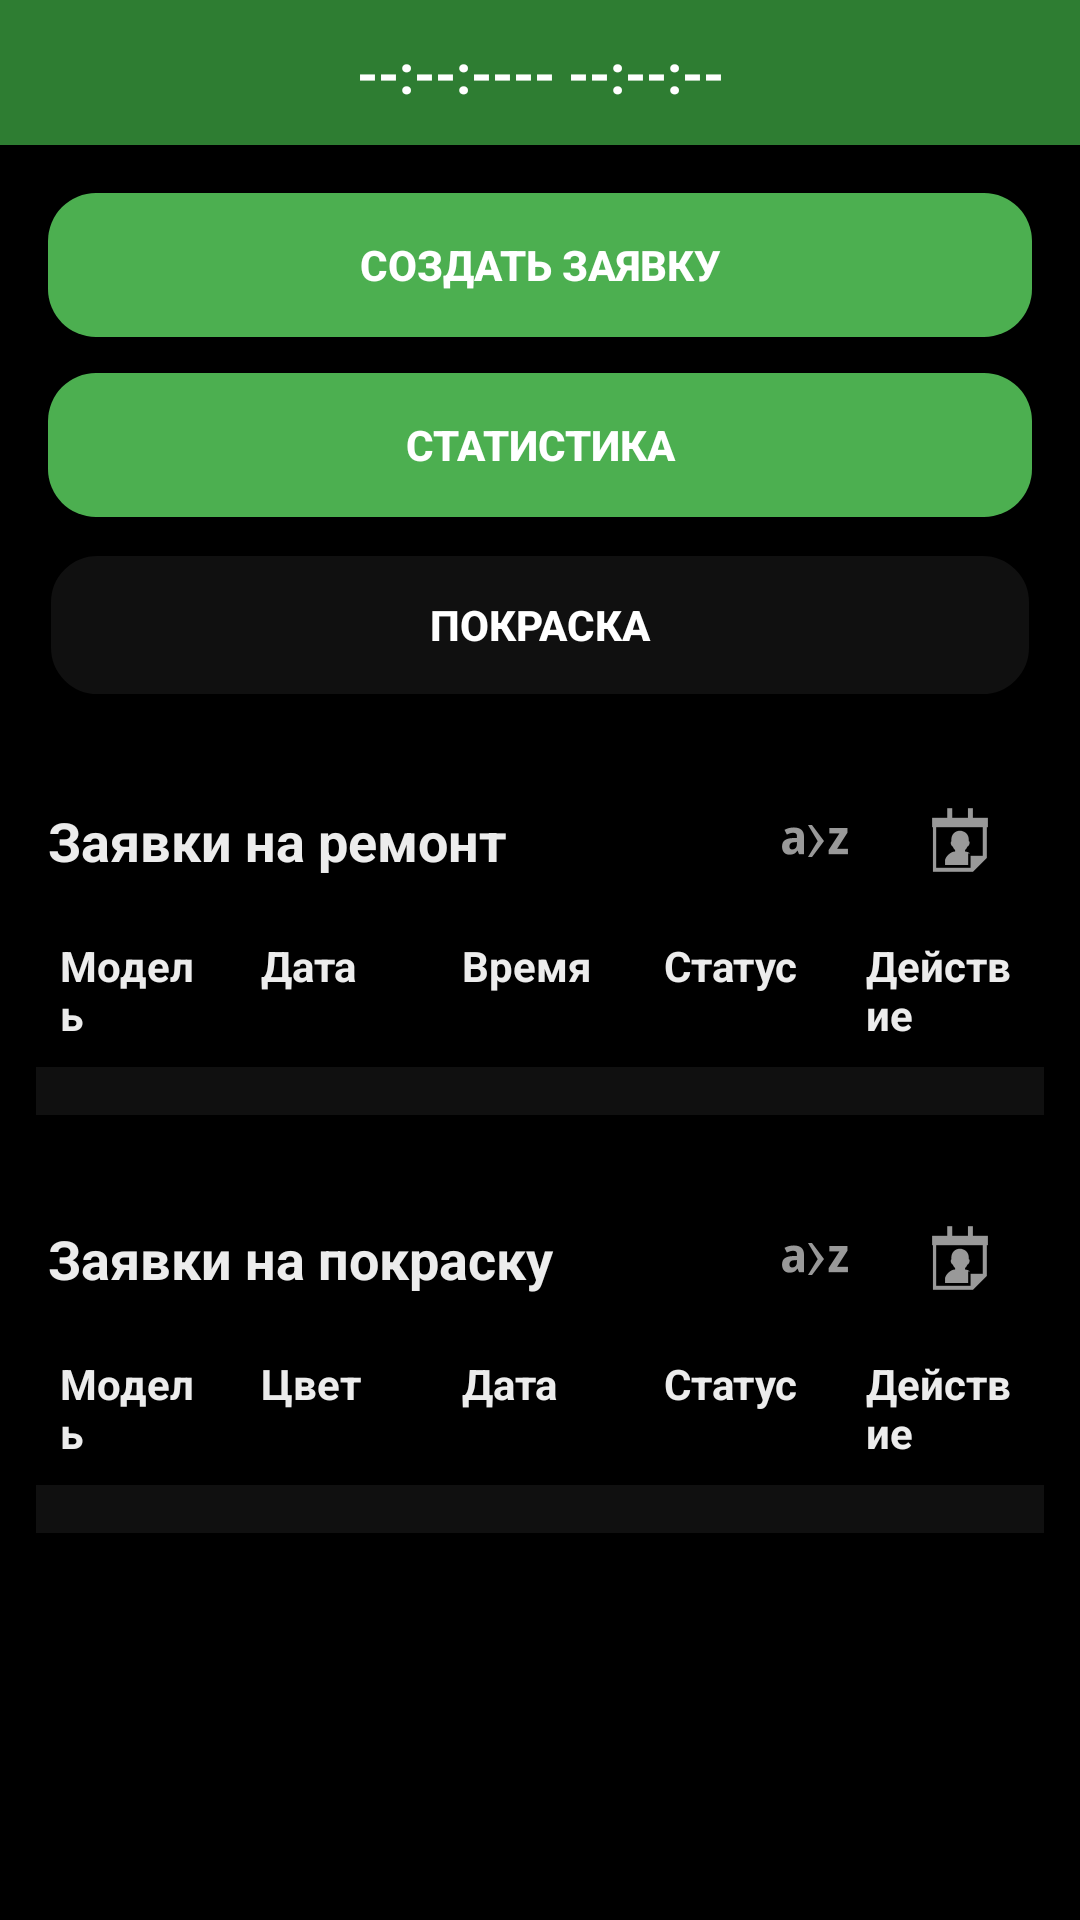

Icons on this 1080px x 1920px Android screen, each with the point to tap as point (x, y):
Сортировать покраску по алфавиту: point (815, 1259)
Сортировать покраску по дате: point (960, 1258)
Сортировать ремонт по алфавиту: point (815, 841)
Сортировать ремонт по дате: point (960, 840)
